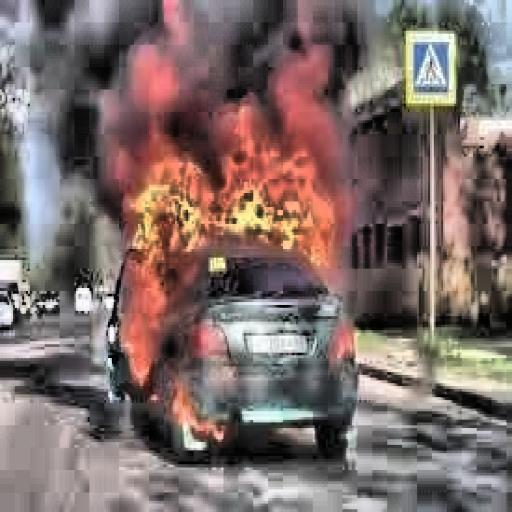fire: (112, 64, 354, 370)
